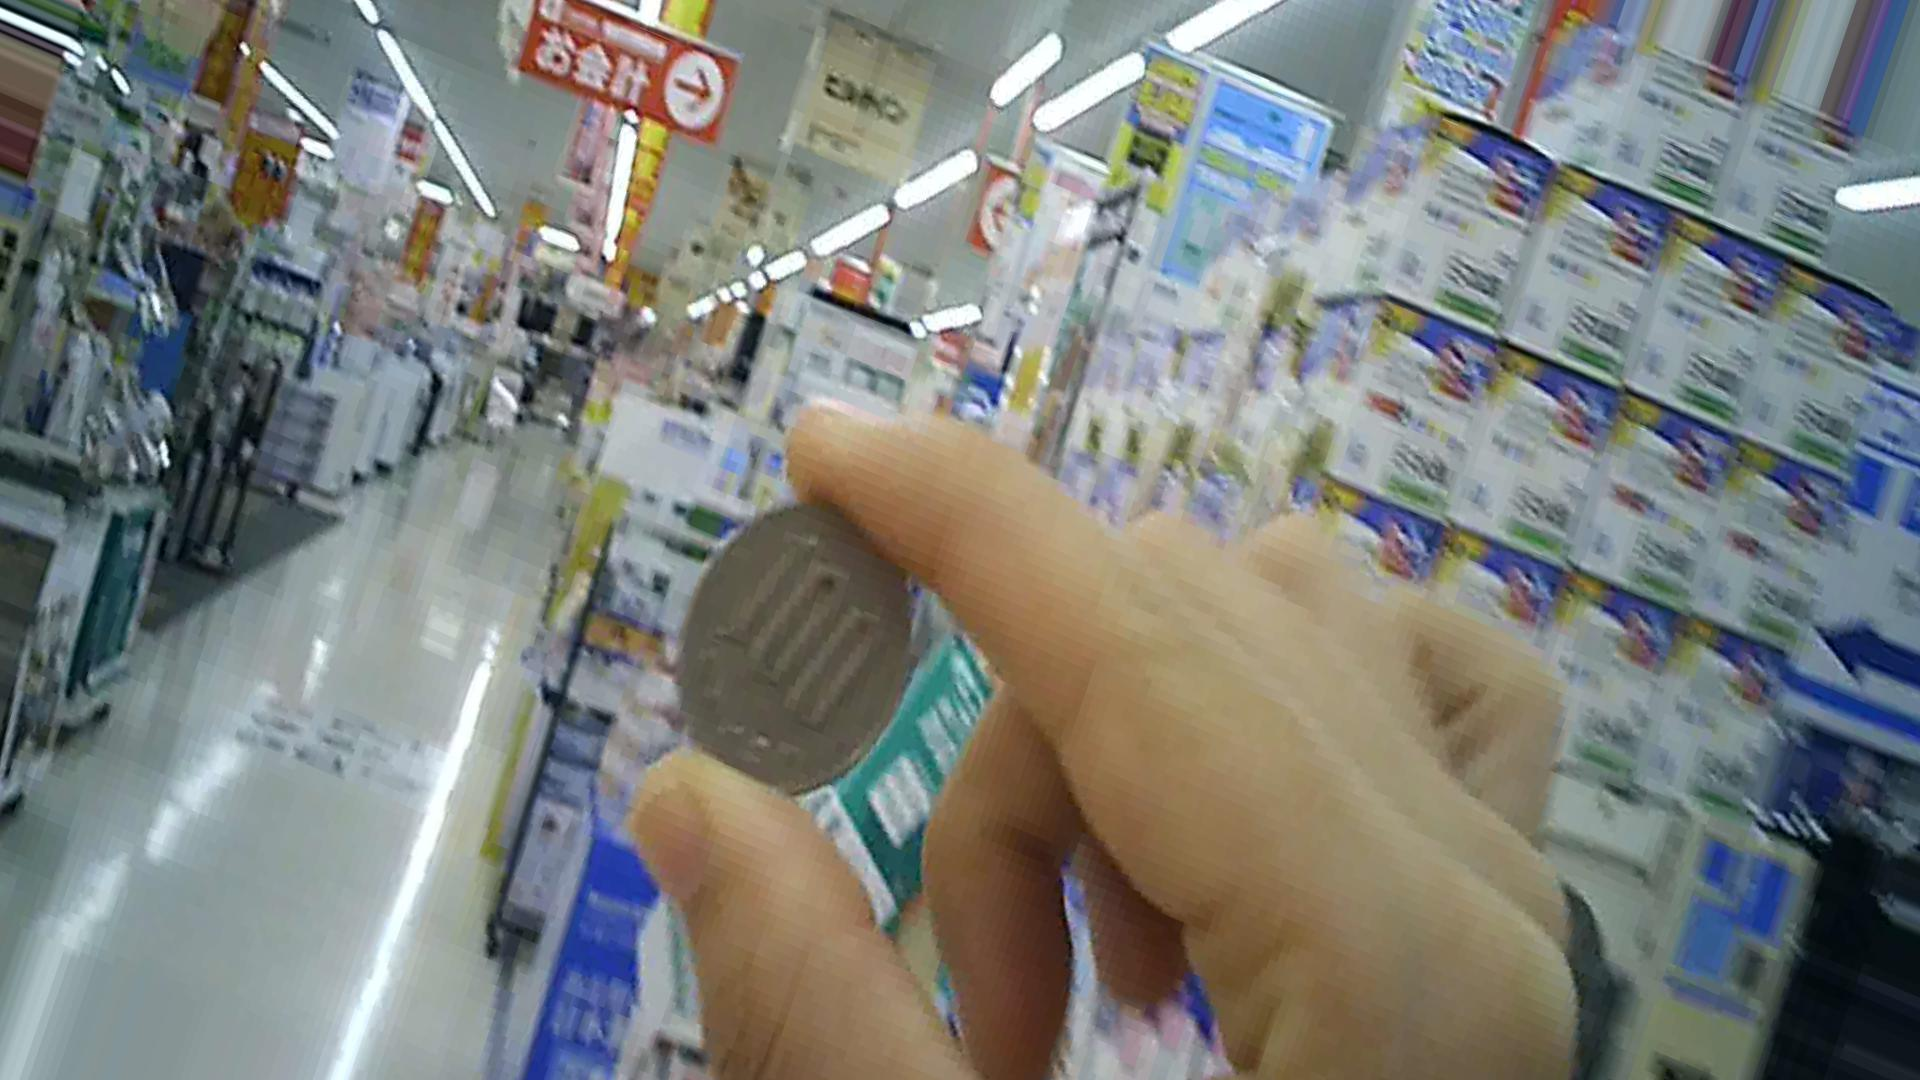100 Yen: (675, 487, 918, 796)
